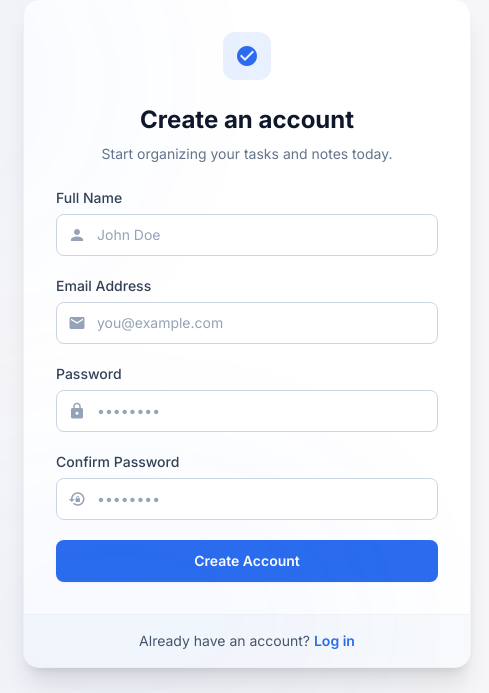
Scenario: SignUp Page › shows error on password mismatch
Type "password123" into the password field labelled "Password" at (247, 410), box [56,390,438,432]
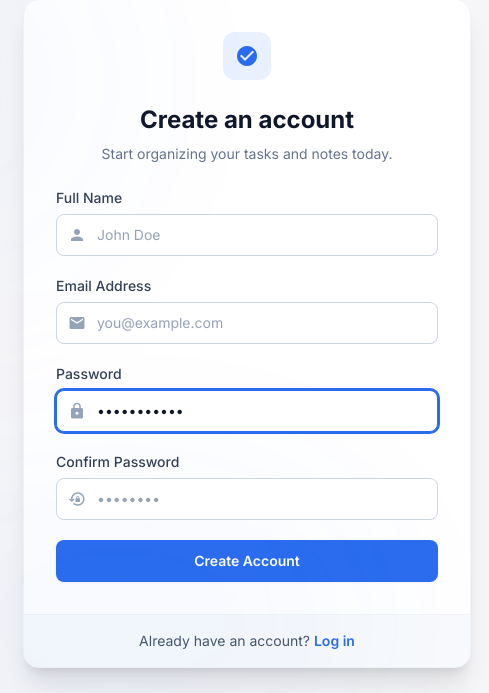
Type "password456" into the password field labelled "Confirm Password" at (247, 498), box [56,478,438,520]
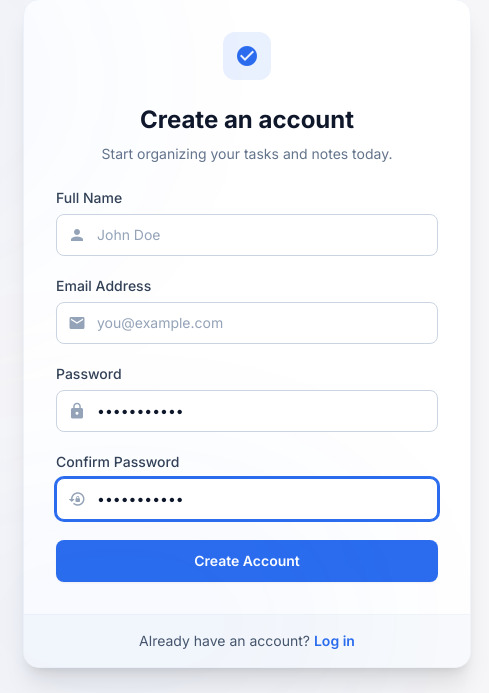
Submit the form, box [24,188,470,614]
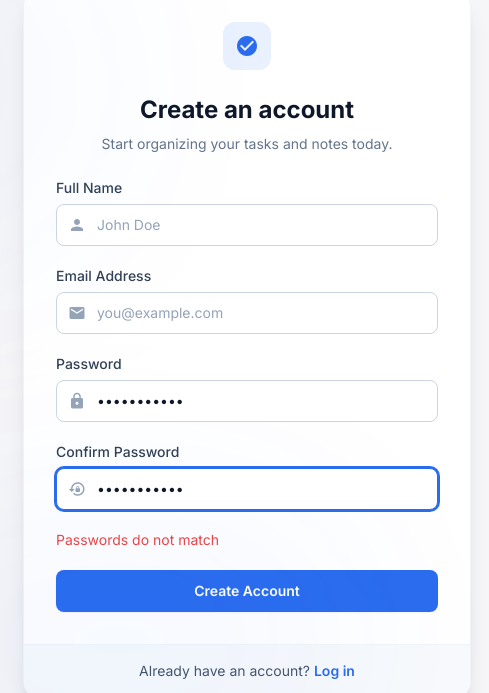
Expected: the text "Passwords do not match" is shown, [56,531,219,548]
